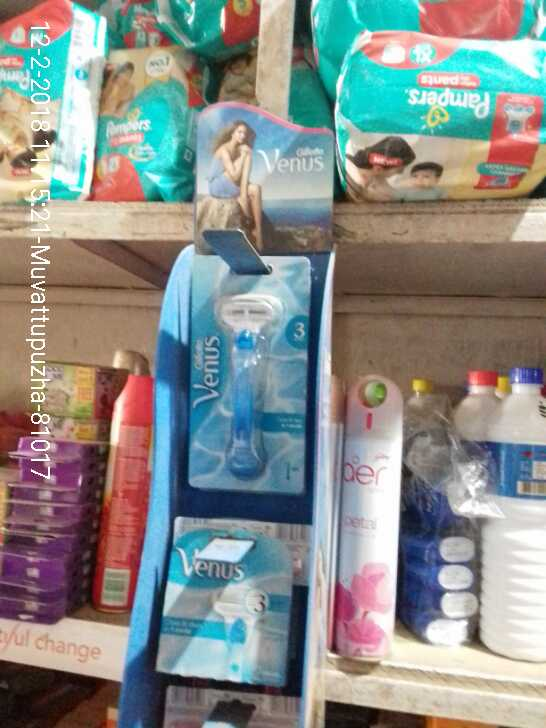beauty: (191, 261, 297, 487), (157, 524, 292, 688)
pharmacy: (337, 24, 546, 207), (1, 8, 100, 208), (95, 45, 189, 198)
